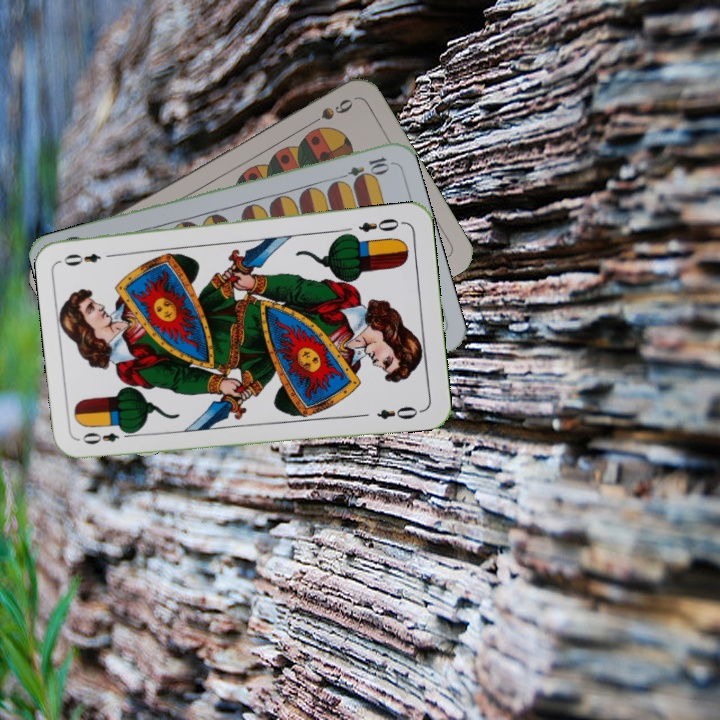E10: (333, 152, 392, 184)
EO: (78, 425, 136, 447), (354, 214, 407, 235)
S9: (302, 94, 356, 130)
